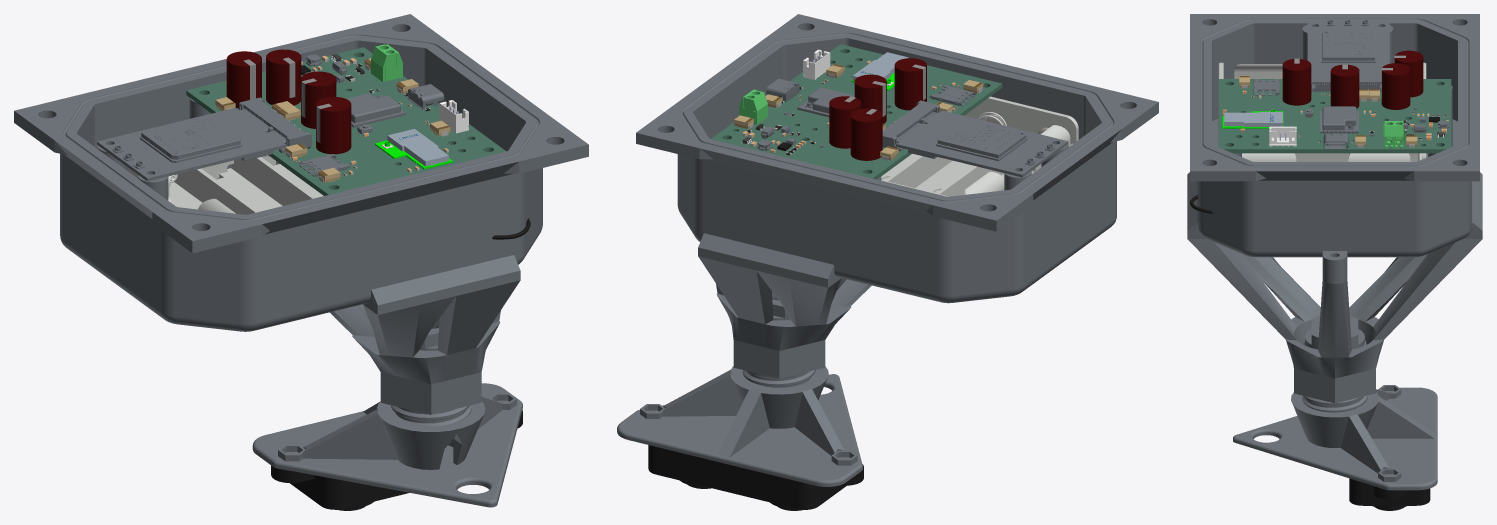
Rendered from RemoteTankMonitoring-Enclosure+TankMount.gltf.
3 renders of one model, left to right at view 1: azimuth 30°, elevation 25°; view 2: azimuth 150°, elevation 25°; view 3: azimuth 270°, elevation 25°, orthographic. The views are drawn at different scales.
Parts seen in each view (by area): view 1: BottomCasing, UltrasonicMount, Casing2Ultrasonic, RemoteTankMonitoring_PCB, 18650 Battery Holder 4x, BG95-M3_MINI_PCIE_PCB, DYP-A02-sensor v0, BG95_COVER, 25ZLH470MEFC10X12.5, 25ZLH470MEFC10X12.001, 25ZLH470MEFC10X12.003, lr62xe (+7 smaller); view 2: BottomCasing, UltrasonicMount, Casing2Ultrasonic, RemoteTankMonitoring_PCB, 18650 Battery Holder 4x, DYP-A02-sensor v0, BG95-M3_MINI_PCIE_PCB, BG95_COVER, 25ZLH470MEFC10X12.003, 25ZLH470MEFC10X12.5, 25ZLH470MEFC10X12.001, 25ZLH470MEFC10X12.002 (+5 smaller); view 3: BottomCasing, Casing2Ultrasonic, UltrasonicMount, RemoteTankMonitoring_PCB, 18650 Battery Holder 4x, BG95-M3_MINI_PCIE_PCB, DYP-A02-sensor v0, BG95_COVER, 25ZLH470MEFC10X12.5, 25ZLH470MEFC10X12.001, 25ZLH470MEFC10X12.002, .step 1.47.1 (+7 smaller).
Boxes of the visible parts, <box> form: BottomCasing: <box>14,14,588,331</box>; UltrasonicMount: <box>252,318,522,507</box>; Casing2Ultrasonic: <box>330,255,520,414</box>; RemoteTankMonitoring_PCB: <box>186,47,506,195</box>; 18650 Battery Holder 4x: <box>127,155,530,239</box>; BG95-M3_MINI_PCIE_PCB: <box>97,107,286,181</box>; DYP-A02-sensor v0: <box>271,410,522,510</box>; BG95_COVER: <box>141,116,240,159</box>; 25ZLH470MEFC10X12.5: <box>316,96,351,154</box>; 25ZLH470MEFC10X12.001: <box>266,49,301,105</box>; 25ZLH470MEFC10X12.003: <box>226,51,261,108</box>; lr62xe: <box>375,129,452,169</box>; BottomCasing: <box>636,14,1158,303</box>; UltrasonicMount: <box>617,291,862,486</box>; Casing2Ultrasonic: <box>698,233,871,378</box>; RemoteTankMonitoring_PCB: <box>711,44,1002,179</box>; 18650 Battery Holder 4x: <box>881,96,1078,196</box>; DYP-A02-sensor v0: <box>648,445,863,510</box>; BG95-M3_MINI_PCIE_PCB: <box>895,110,1068,177</box>; BG95_COVER: <box>937,118,1026,158</box>; 25ZLH470MEFC10X12.003: <box>850,108,882,160</box>; 25ZLH470MEFC10X12.5: <box>894,58,926,110</box>; 25ZLH470MEFC10X12.001: <box>829,96,861,148</box>; 25ZLH470MEFC10X12.002: <box>854,74,886,123</box>; BottomCasing: <box>1190,14,1479,270</box>; Casing2Ultrasonic: <box>1187,172,1482,403</box>; UltrasonicMount: <box>1233,316,1437,490</box>; RemoteTankMonitoring_PCB: <box>1218,79,1451,153</box>; 18650 Battery Holder 4x: <box>1190,62,1426,213</box>; BG95-M3_MINI_PCIE_PCB: <box>1307,22,1389,74</box>; DYP-A02-sensor v0: <box>1349,478,1430,510</box>; BG95_COVER: <box>1322,30,1374,60</box>; 25ZLH470MEFC10X12.5: <box>1282,58,1311,105</box>; 25ZLH470MEFC10X12.001: <box>1381,63,1410,109</box>; 25ZLH470MEFC10X12.002: <box>1330,64,1359,108</box>; .step 1.47.1: <box>1320,106,1358,133</box>.
Size of the model in its own units: 0.1552 by 0.1498 by 0.108.
